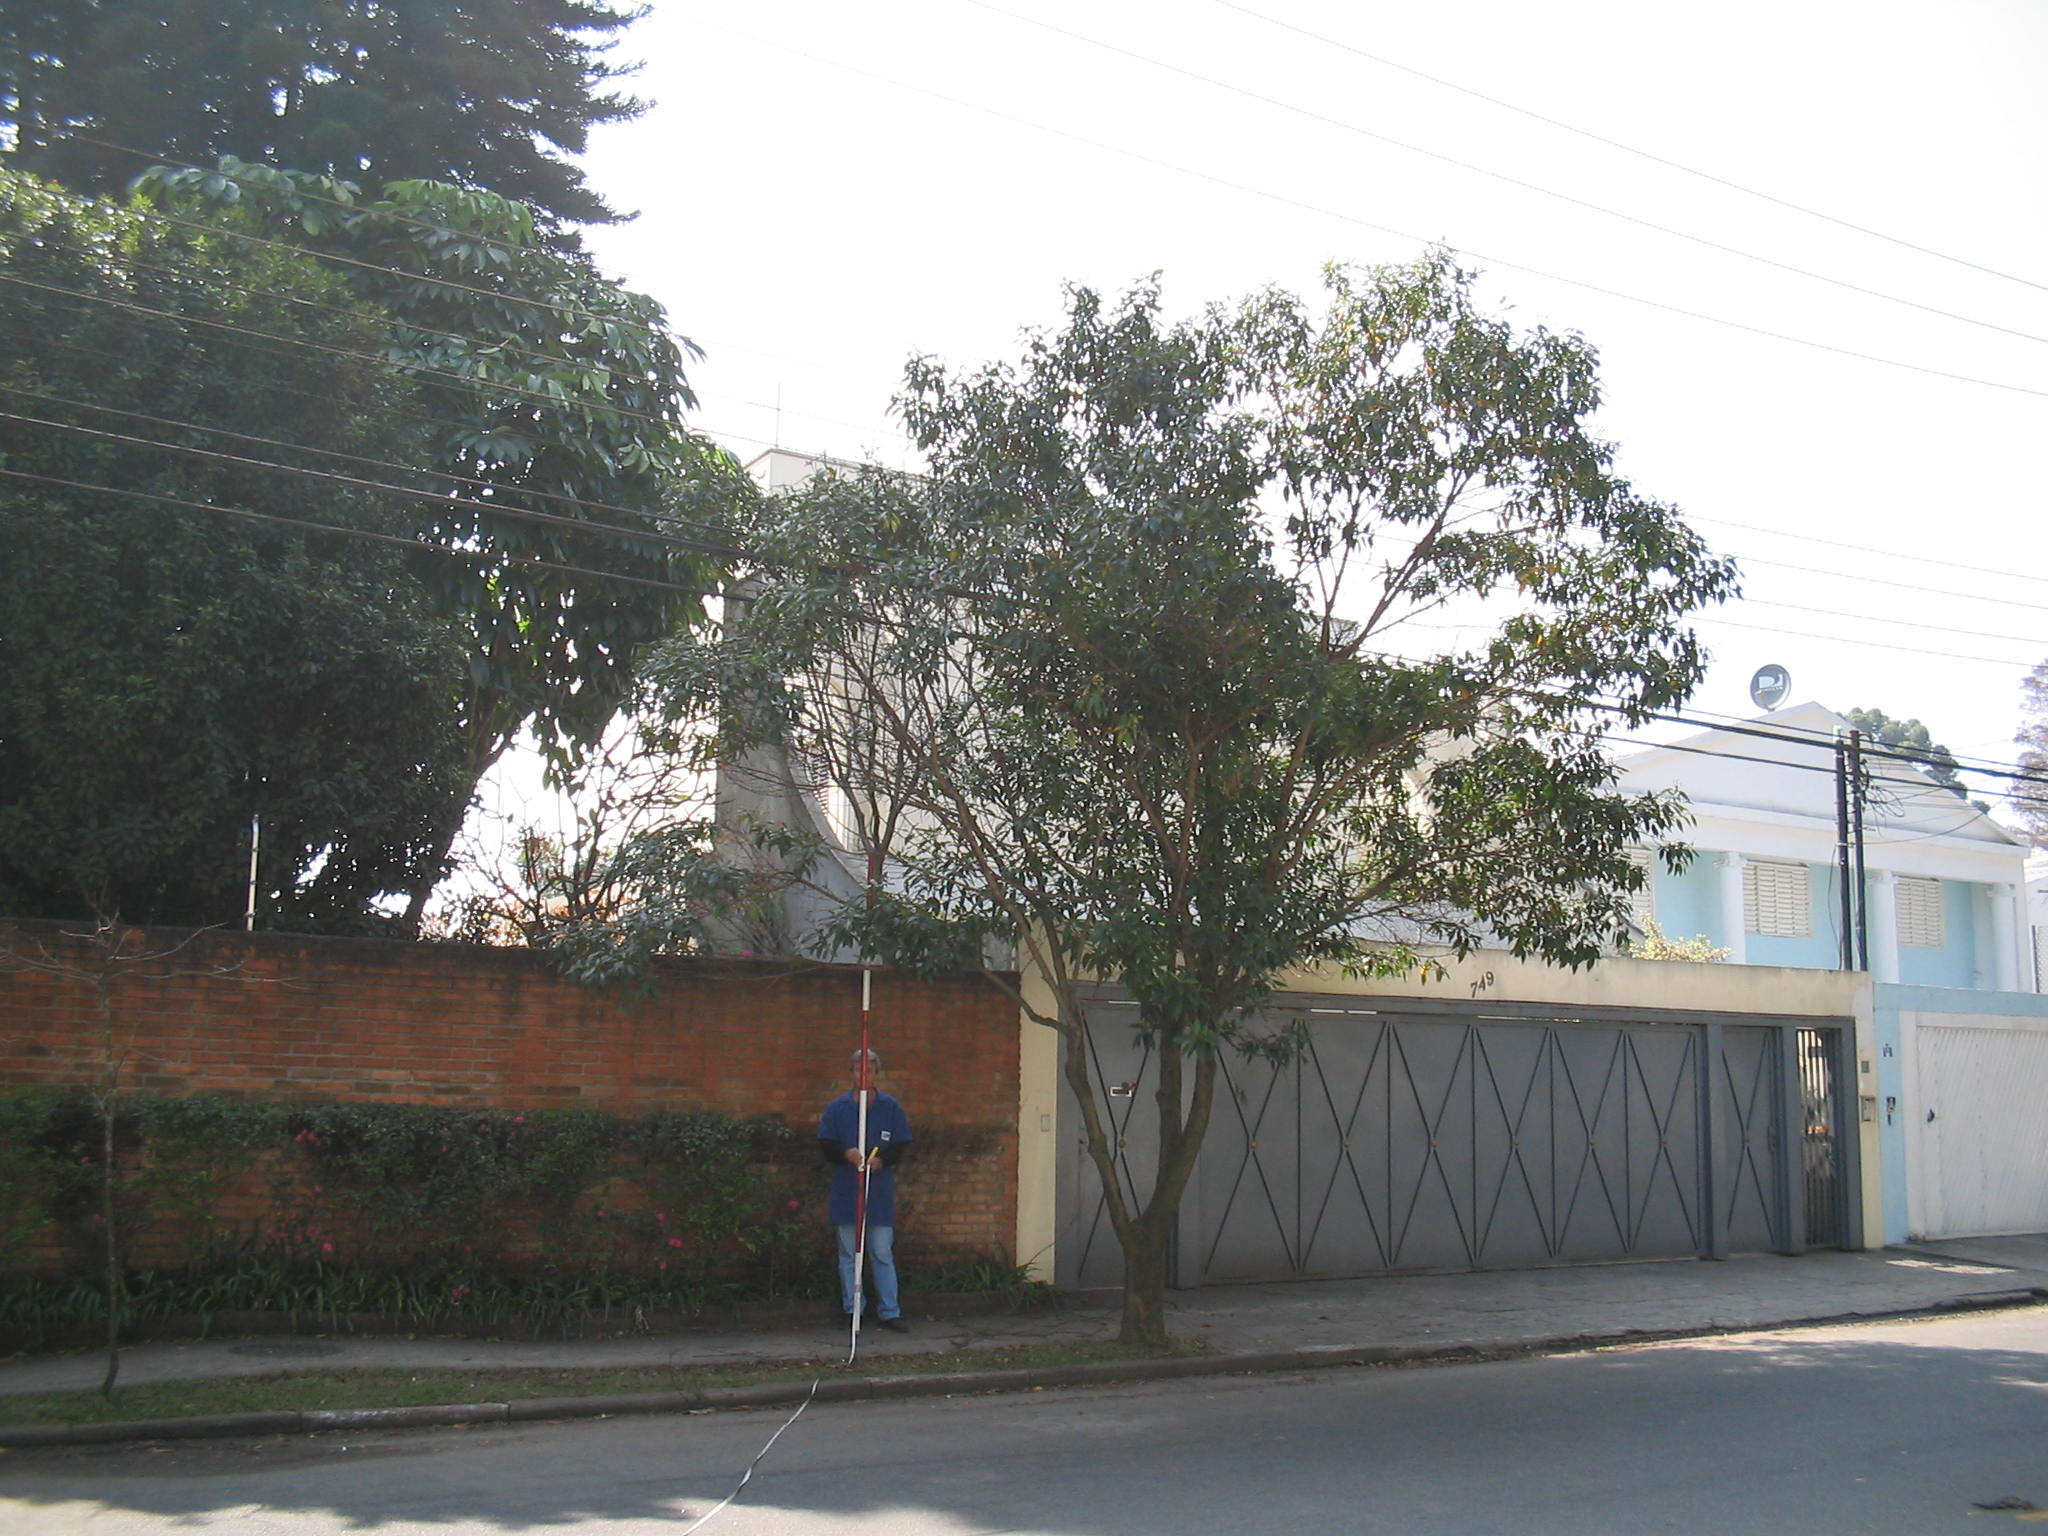crown: (577, 248, 1738, 1091)
stem: (1084, 1220, 1203, 1347)
stick: (829, 854, 893, 1338)
tree: (574, 242, 1742, 1355)
